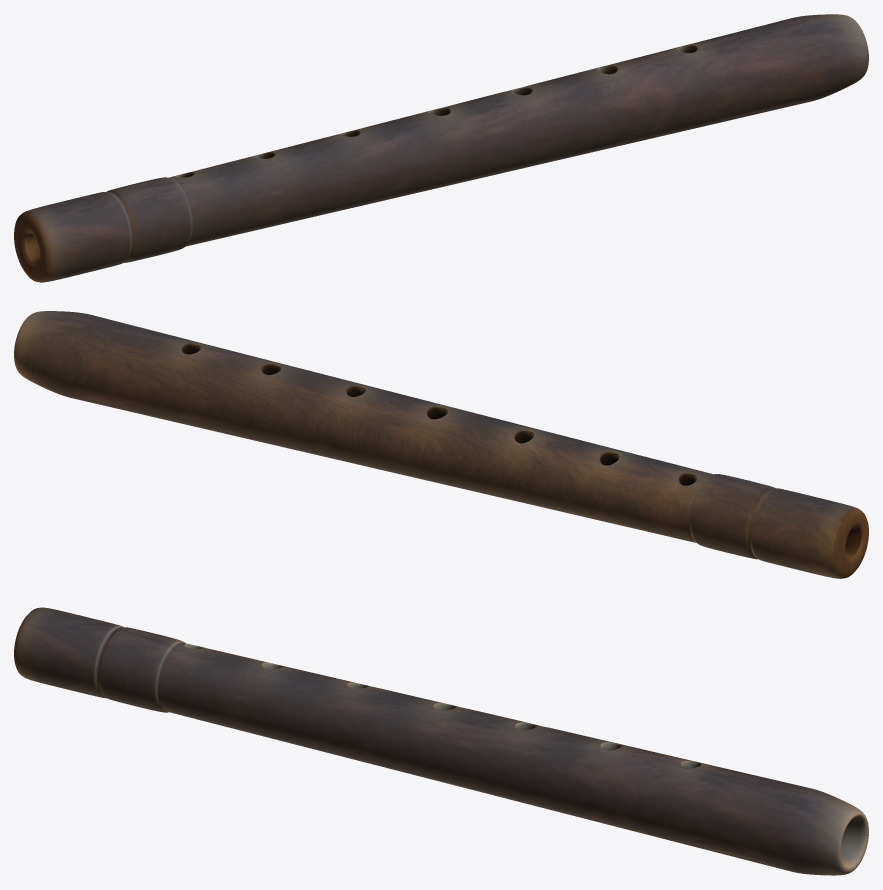
Rendered from Mullu Kurumba_Kozhal_final.glb.
The picture shows the model from 3 angles, top to bottom: view 1: azimuth 30°, elevation 25°; view 2: azimuth 150°, elevation 25°; view 3: azimuth 330°, elevation 25°; orthographic projection.
Visible parts, largest first — view 1: flute; view 2: flute; view 3: flute.
Boxes of the visible parts, bbox=[...] form: flute: bbox=[14, 14, 868, 282]; flute: bbox=[14, 311, 868, 578]; flute: bbox=[14, 607, 868, 875].
Bounding box in the file's own units: 0.2 × 0.018 × 0.018.
Materials: 1 (1 with a texture image).
